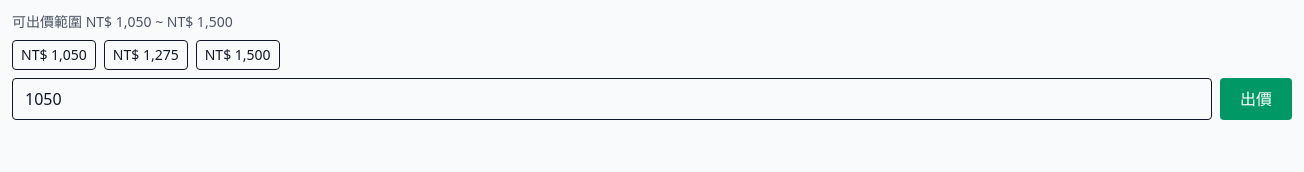
Test case: BidPanel › shows backend rejection messages
Click the button "出價" at (1256, 99), box top-left (1220, 78), bottom-right (1292, 120)
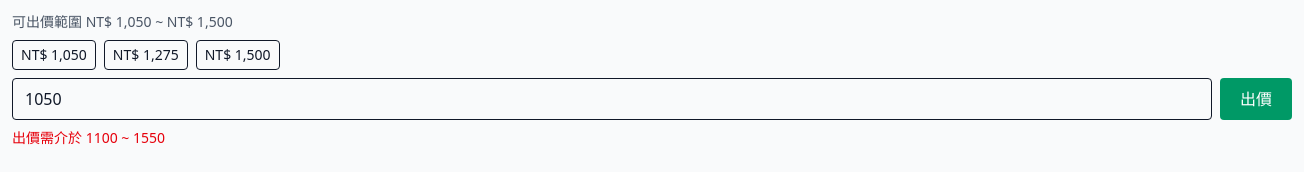
Result: the message reads "出價需介於 1100 ~ 1550" at top-left (12, 128), bottom-right (165, 147)
